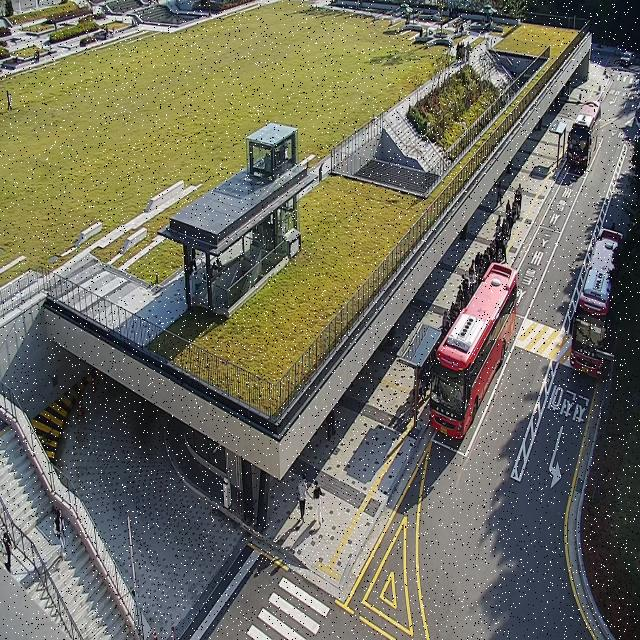queue: (414, 184, 523, 430)
